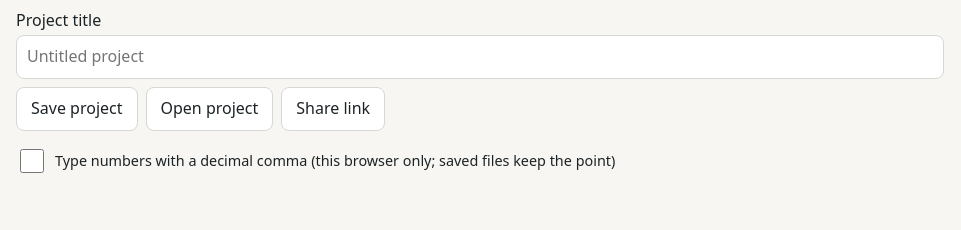
Test: project bar › Save project downloads a json file through an anchor and marks the project saved
The image size is (961, 230).
Type "Site Z" into the field labelled "Project title".
click(480, 57); type("Site Z")  # box left=16, top=35, right=944, bottom=79
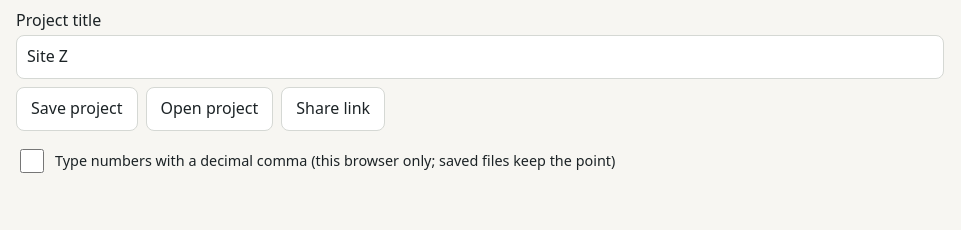
Click the button "Save project".
click(77, 109)  # box left=16, top=87, right=138, bottom=131
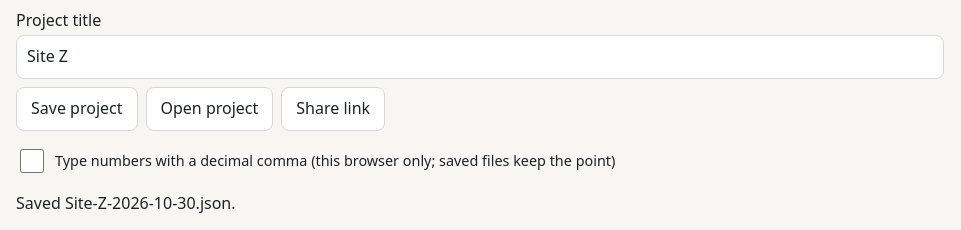
Check: the message shows "Saved", box left=16, top=192, right=236, bottom=214
